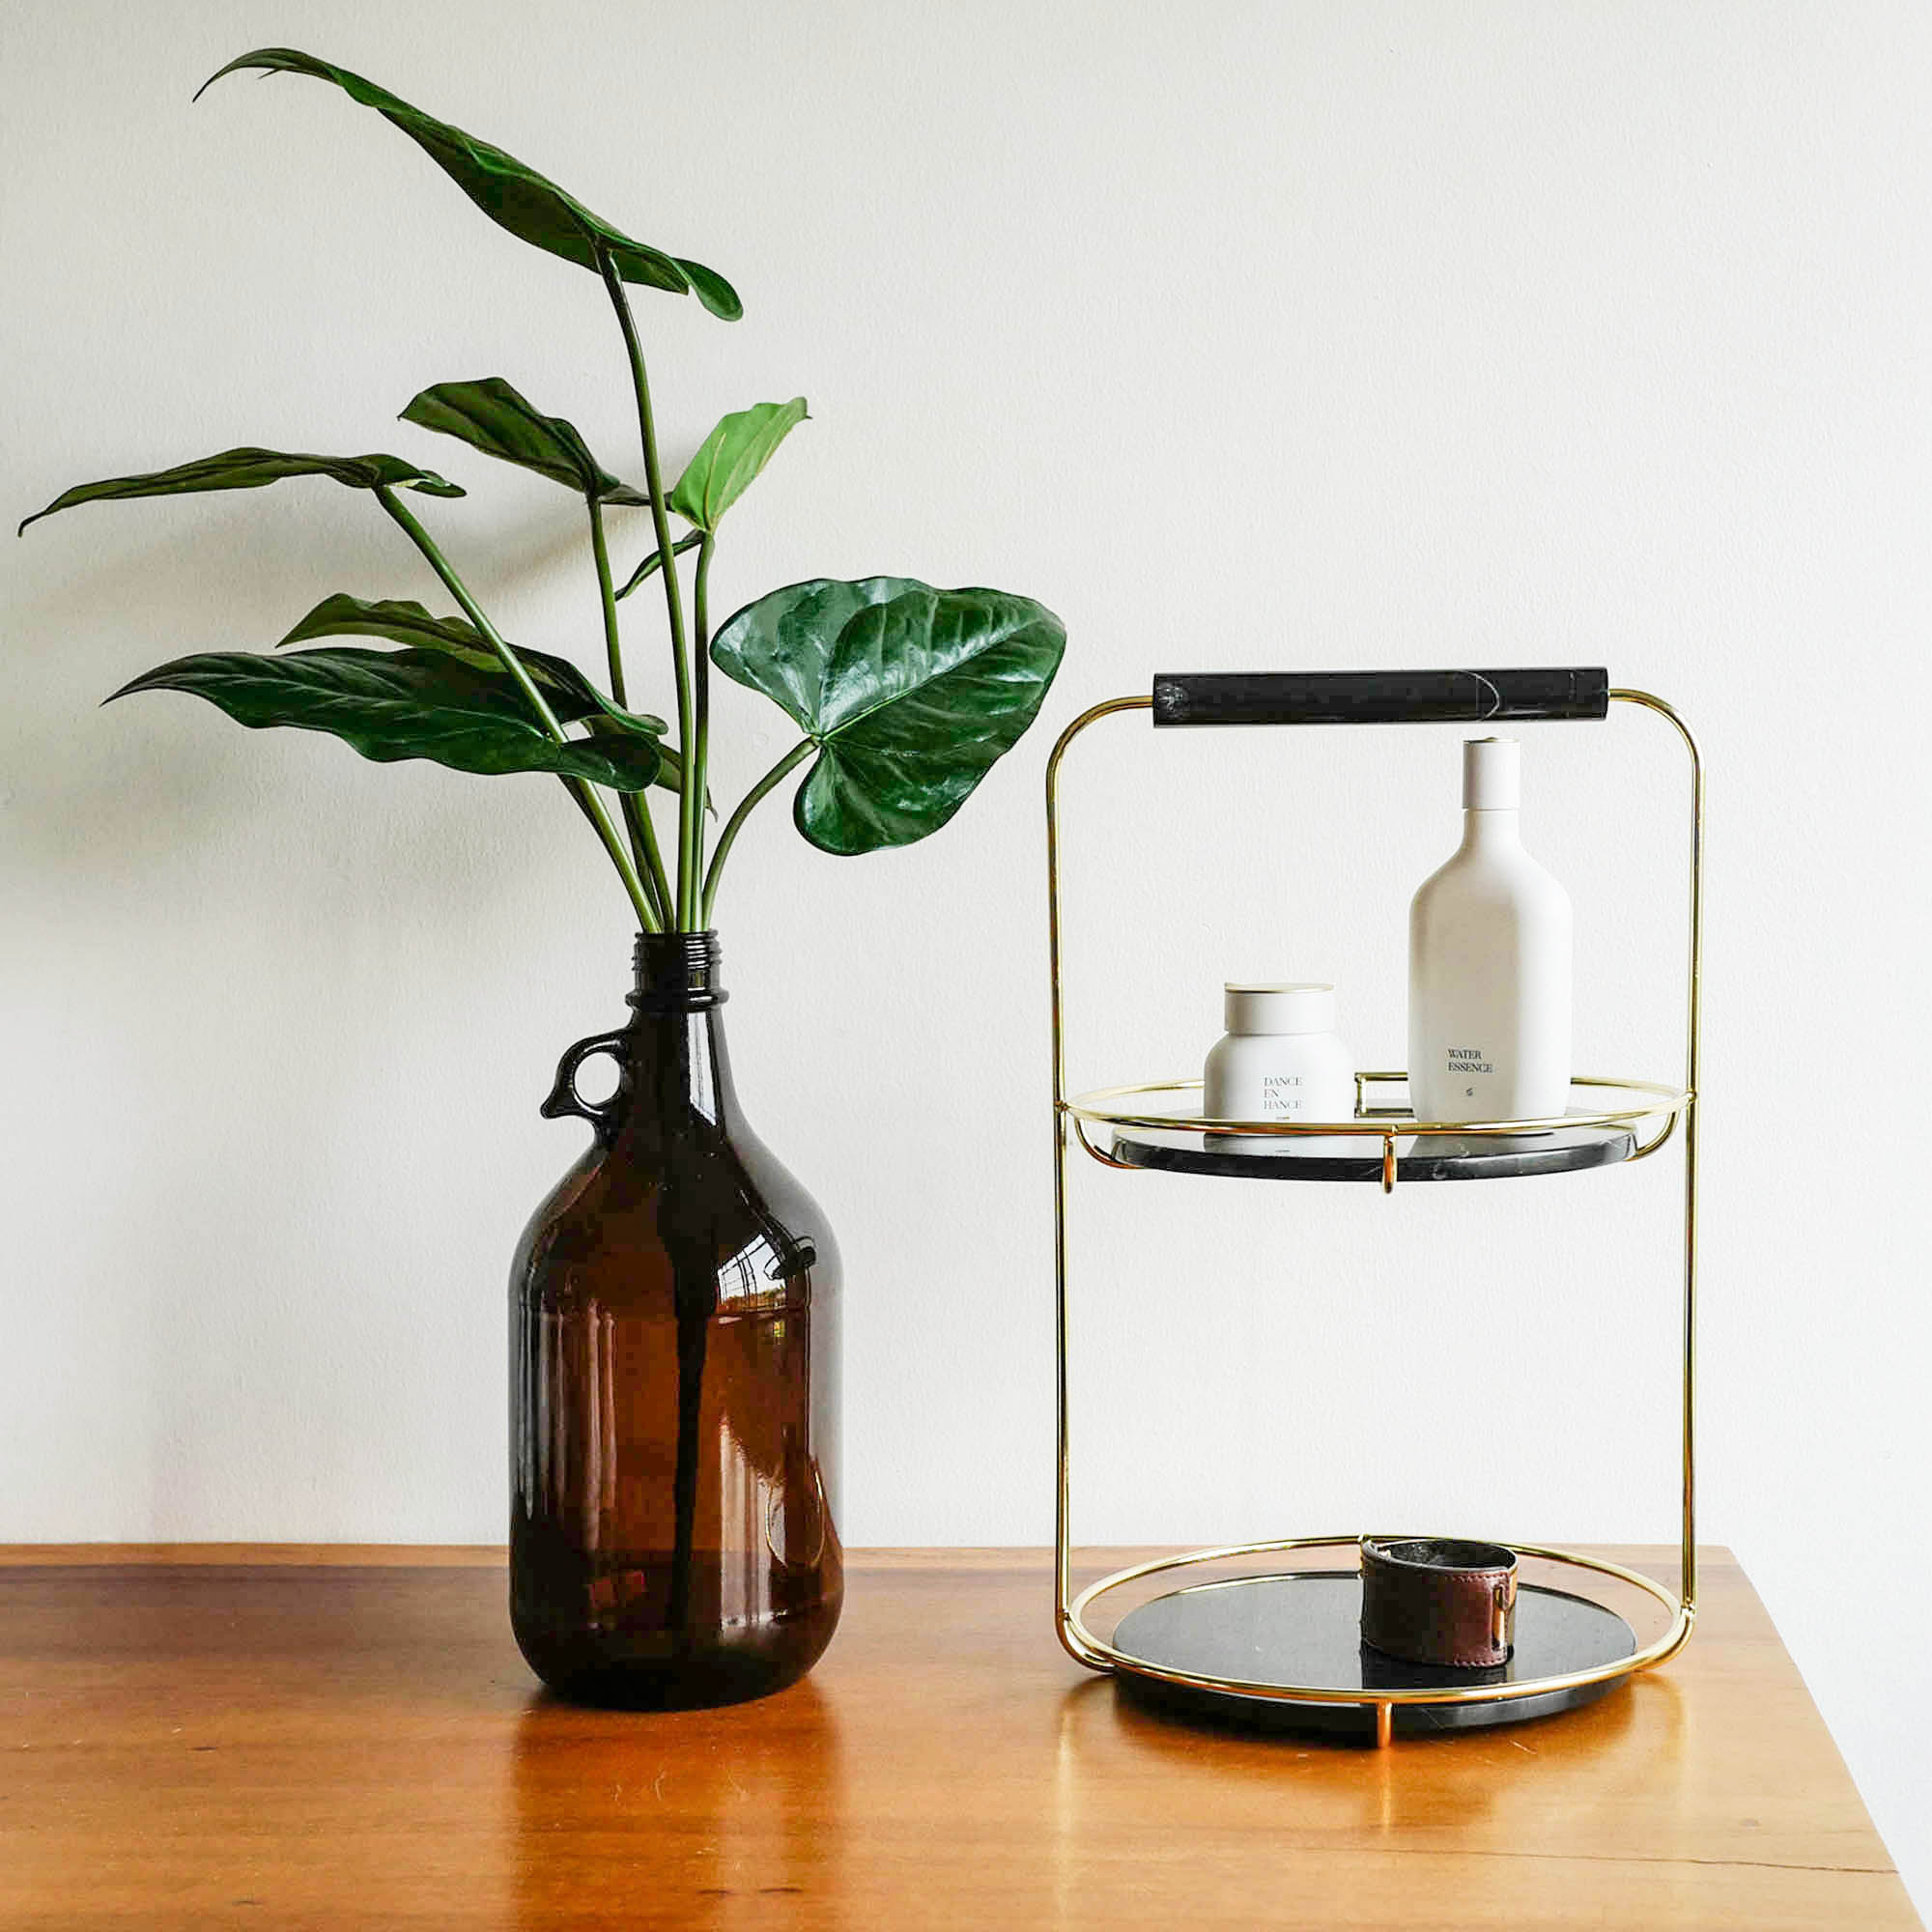glass_bottle: (495, 924, 855, 1730), (1403, 731, 1575, 1152)
